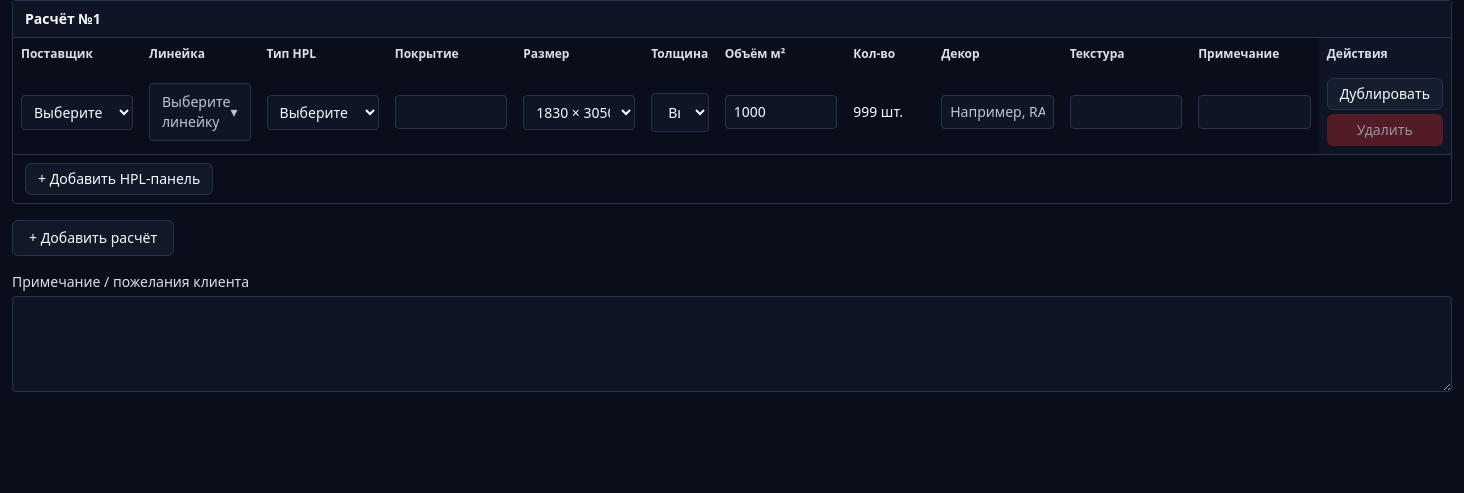
Test case: CalculationRequestForm › duplicates a row without treating persisted sheetsCount as an editable field
expect the text named "Количество, строка 1" reads "999 шт.": met, box left=853, top=102, right=903, bottom=121
Step 1. Click the button with aria-label "Дублировать строку 1" → (1385, 94), box left=1327, top=78, right=1443, bottom=110
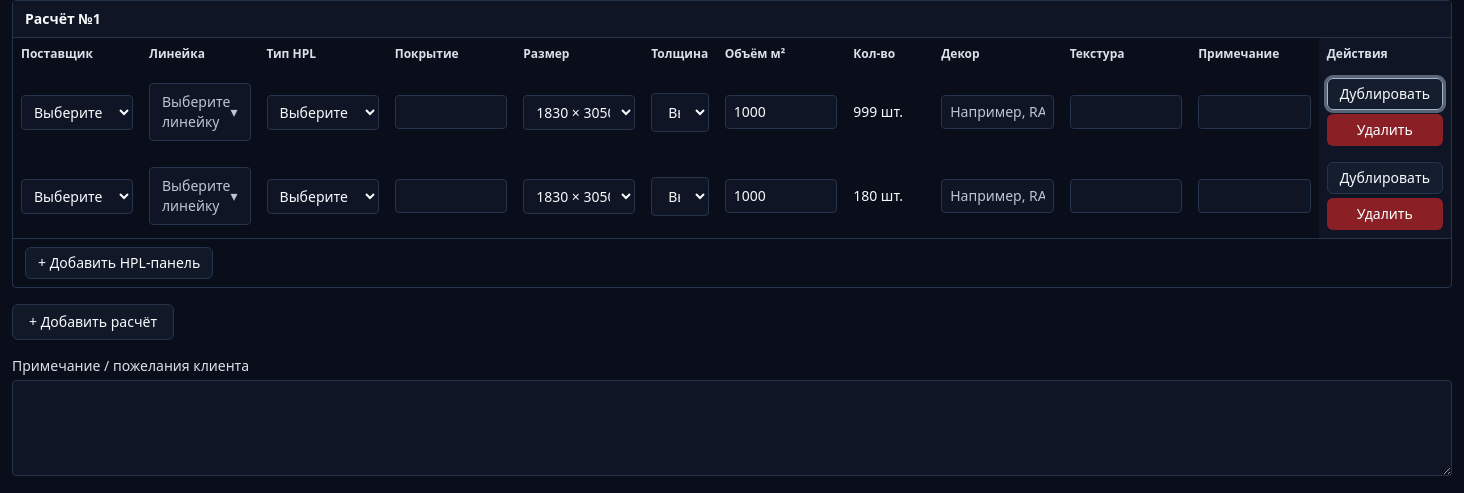
expect the number of elements named "Количество, строка" is 2: met, box left=853, top=102, right=903, bottom=121; left=853, top=186, right=903, bottom=205
expect the text named "Количество, строка 2" reads "180 шт.": met, box left=853, top=186, right=903, bottom=205
